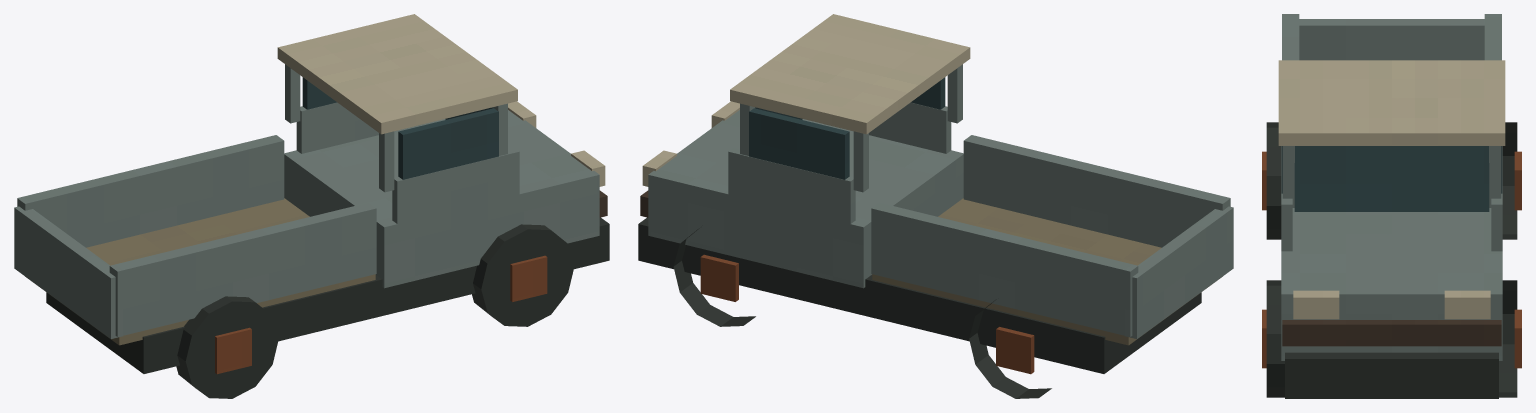
File: utility_truck.glb
3 renders of one model, left to right at view 1: azimuth 30°, elevation 25°; view 2: azimuth 150°, elevation 25°; view 3: azimuth 270°, elevation 25°, orthographic. The views are drawn at different scales.
Visible parts, largest first — view 1: Wreck; view 2: Wreck; view 3: Wreck.
Part boxes in pixels (x1,y1,x2,y2): Wreck: [14, 14, 609, 398]; Wreck: [638, 14, 1233, 398]; Wreck: [1262, 14, 1521, 398].
Size of the model in its own units: 3.42 by 1.54 by 1.41.
7 materials, 7 textured.
